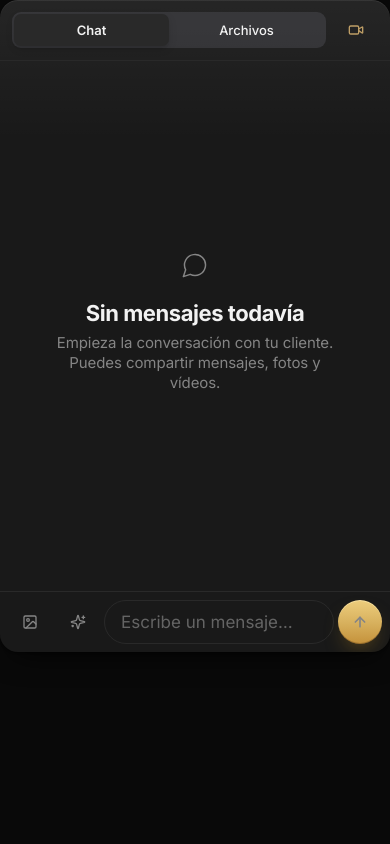
Test case: trainer chat reliability › renders a successful send immediately and deduplicates its realtime echo
The width and height of the screenshot is (390, 844).
Expected: the text "Empieza la conversación" is shown, [57,333,333,392]
Type "Mensaje de prueba" into the field labelled "mensaje" at (219, 622), box [104,600,334,644]
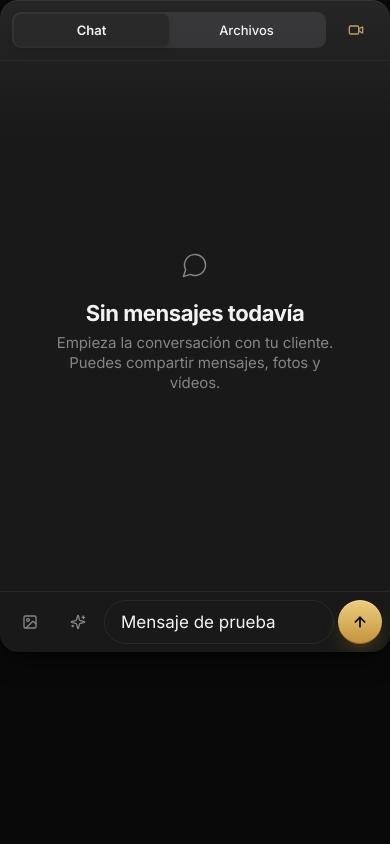
Click the button named "Enviar mensaje" at (360, 622), box [338,600,382,644]
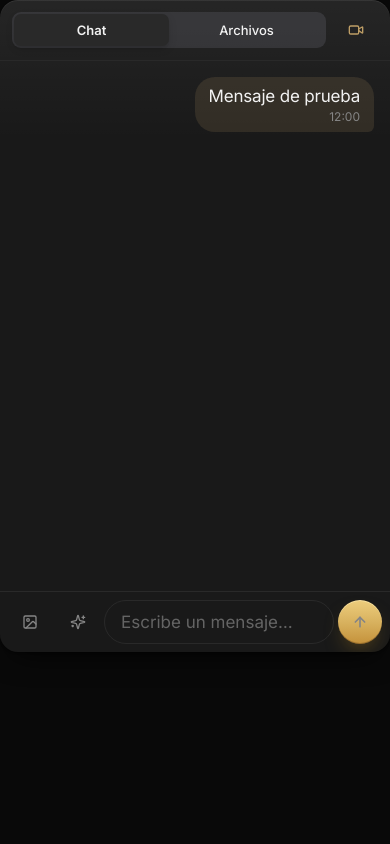
Result: the field labelled "mensaje" is empty at [104,600,334,644]
Result: the text "Mensaje de prueba" is shown once at [208,86,360,106]
